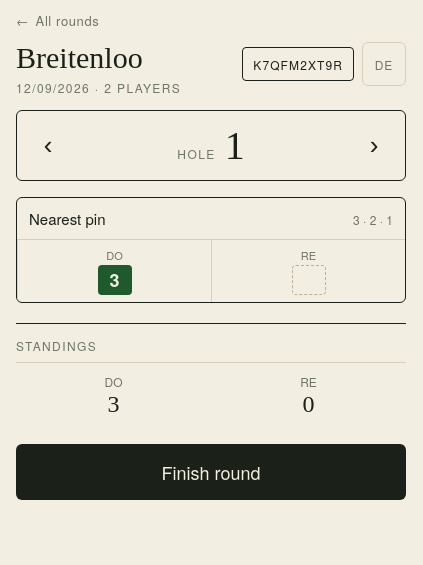
it: LiveRound › seeds the draft from the saved result instead of starting empty
Check: the button with test id "cell-c1-p1" shows "3", box [17,240,211,302]
// Adding second place must leave first place exactly where it was.
Click the button with test id "cell-c1-p2".
click(308, 270)  # box [211,240,405,302]
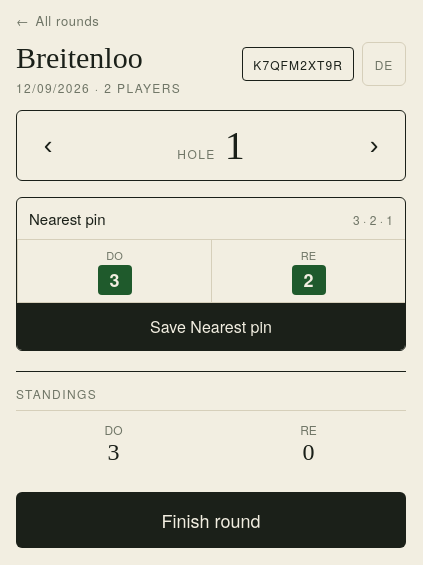
Check: the button with test id "cell-c1-p1" shows "3", box [17,240,211,302]
Check: the button with test id "cell-c1-p2" shows "2", box [211,240,405,302]
